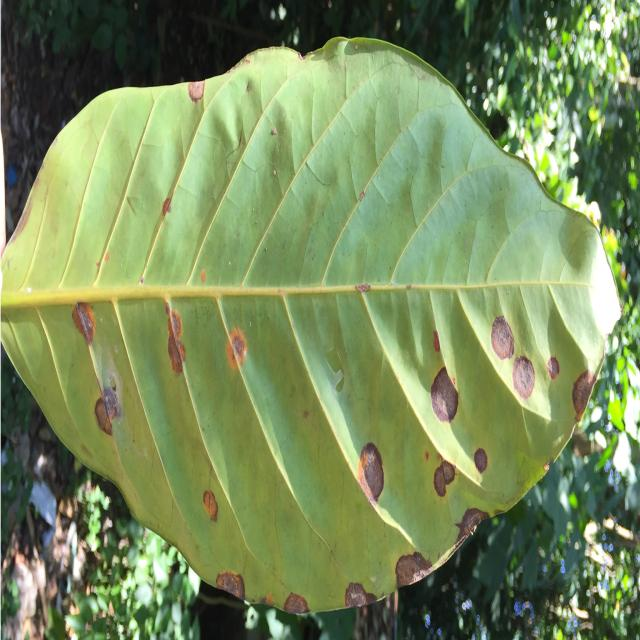Enfermedad-Mancha-de-hierro: (2, 37, 621, 613)
